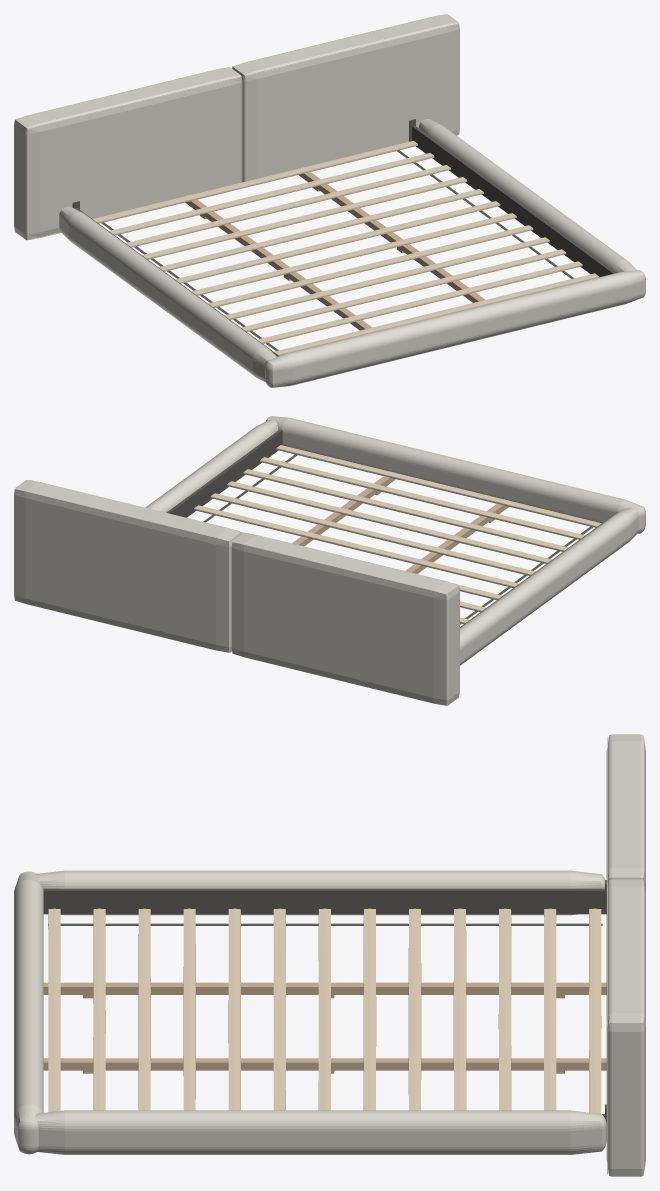
The picture shows the model from 3 angles, top to bottom: view 1: azimuth 30°, elevation 25°; view 2: azimuth 150°, elevation 25°; view 3: azimuth 270°, elevation 25°; orthographic projection. The views are drawn at different scales.
Visible parts, largest first — view 1: Padded headboard panel 1, Padded headboard panel 2, Rounded upholstered foot rail, Left upholstered side rail, Right upholstered side rail, Right black inner rail, Wood slat 01, Wood slat 08, Wood slat 02, Wood slat 03, Wood slat 06, Wood slat 09 (+8 smaller); view 2: Padded headboard panel 1, Padded headboard panel 2, Rounded upholstered foot rail, Left upholstered side rail, Right upholstered side rail, Wood slat 09, Wood slat 11, Wood slat 08, Wood slat 10, Wood slat 13, Wood slat 12, Right black inner rail (+2 smaller); view 3: Right upholstered side rail, Left black inner rail, Padded headboard panel 2, Left upholstered side rail, Rounded upholstered foot rail, Padded headboard panel 1, Longitudinal wood beam 2, Longitudinal wood beam 1, Wood slat 05, Wood slat 04, Wood slat 06, Wood slat 01 (+10 smaller).
Part boxes in pixels (<box>): Padded headboard panel 1: <box>14,67,242,240</box>; Padded headboard panel 2: <box>232,14,459,183</box>; Rounded upholstered foot rail: <box>265,270,645,387</box>; Left upholstered side rail: <box>59,206,276,382</box>; Right upholstered side rail: <box>418,119,636,272</box>; Right black inner rail: <box>412,125,615,277</box>; Wood slat 01: <box>93,140,417,223</box>; Wood slat 08: <box>208,225,533,307</box>; Wood slat 02: <box>109,153,434,235</box>; Wood slat 03: <box>125,165,450,247</box>; Wood slat 06: <box>175,201,500,283</box>; Wood slat 09: <box>224,237,549,319</box>; Padded headboard panel 1: <box>231,533,459,705</box>; Padded headboard panel 2: <box>14,480,241,652</box>; Rounded upholstered foot rail: <box>266,416,645,533</box>; Left upholstered side rail: <box>460,507,638,665</box>; Right upholstered side rail: <box>145,419,277,512</box>; Wood slat 09: <box>210,493,535,575</box>; Wood slat 11: <box>243,469,568,551</box>; Wood slat 08: <box>194,505,518,587</box>; Wood slat 10: <box>227,481,552,563</box>; Wood slat 13: <box>276,445,601,527</box>; Wood slat 12: <box>260,457,584,539</box>; Right black inner rail: <box>166,429,282,517</box>; Right upholstered side rail: <box>35,1110,606,1154</box>; Left black inner rail: <box>43,888,606,914</box>; Padded headboard panel 2: <box>606,879,645,1176</box>; Left upholstered side rail: <box>35,870,605,915</box>; Rounded upholstered foot rail: <box>14,871,43,1154</box>; Padded headboard panel 1: <box>606,734,645,895</box>; Longitudinal wood beam 2: <box>43,1058,606,1070</box>; Longitudinal wood beam 1: <box>43,982,606,994</box>; Wood slat 05: <box>408,908,421,1110</box>; Wood slat 04: <box>453,908,466,1110</box>; Wood slat 06: <box>363,908,376,1110</box>; Wood slat 01: <box>589,908,601,1113</box>.
Size of the model in its own units: 2.5 by 0.6287 by 2.3.
